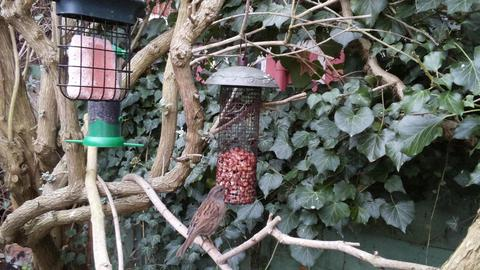dunnock: (176, 184, 230, 258)
